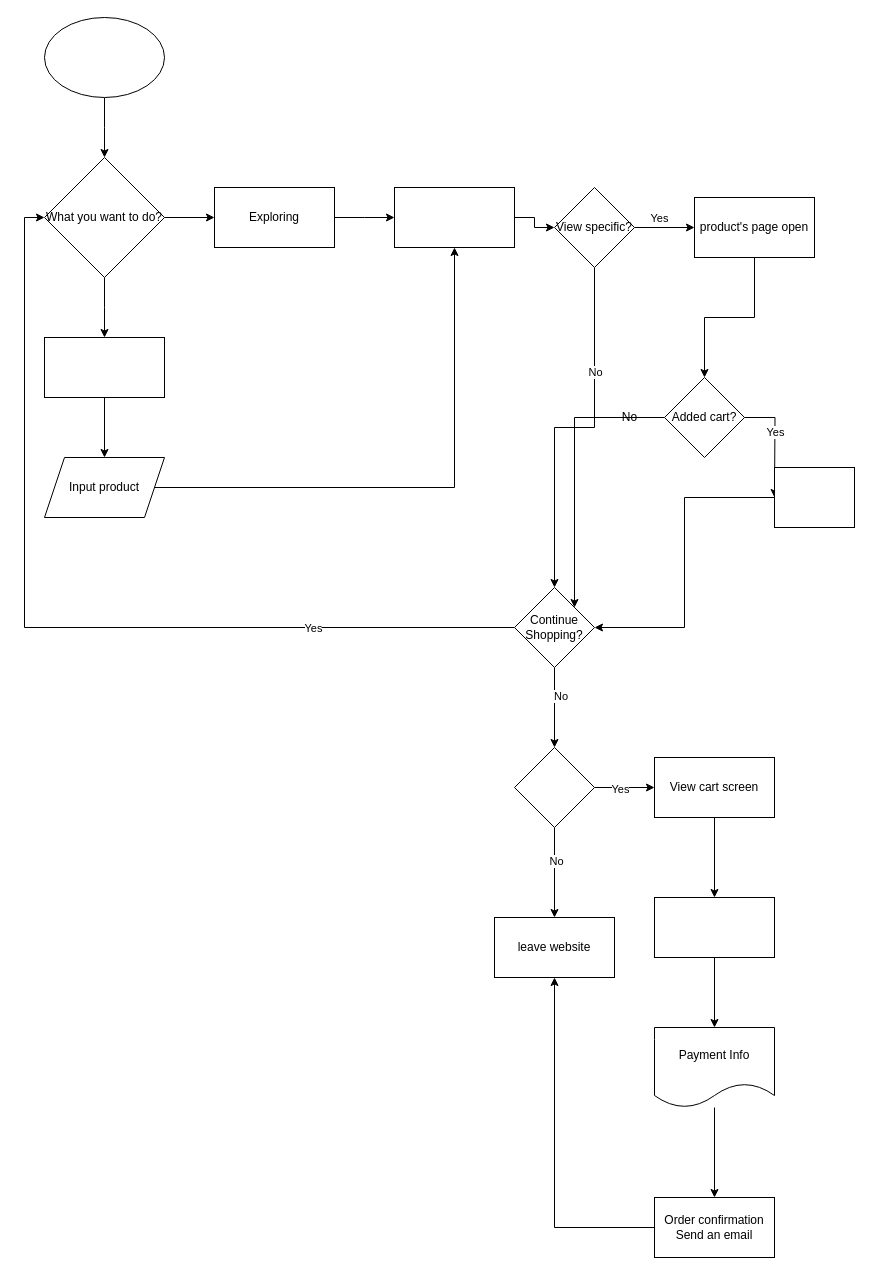
Some shapes in this 872 by 1275 pixel diagram are drawn without their labels. The centre of each missing label's shape, as x and y in pixels:
cart confirmation: [814,497]
Checkout?: [554,787]
Looking over: [454,217]
Searching: [104,367]
View payment screen: [714,927]
Website: [104,57]
